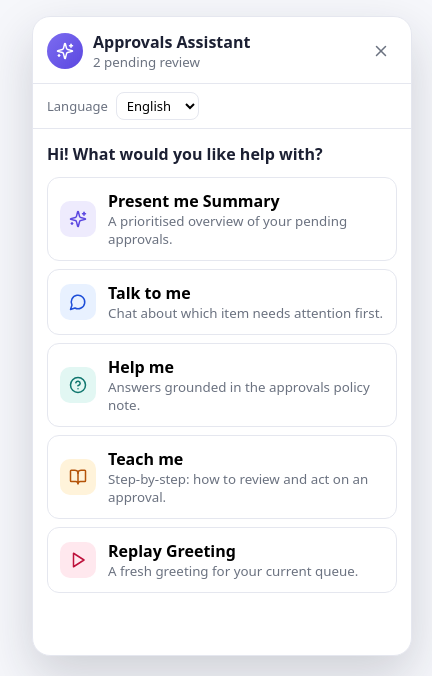
Test case: conversation actions › Talk to me: waits for the operator, then sends the history to /talk
Click the button "Talk to me Chat about which item needs attention first." at (222, 302), box [47,269,397,335]
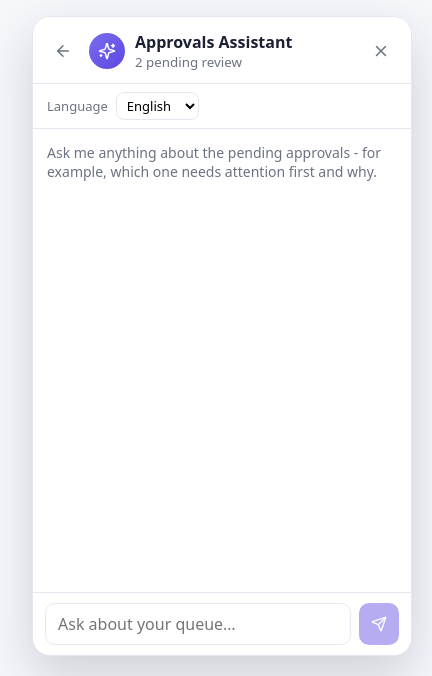
Type "Which first?" into the field labelled "Ask about your queue…" at (198, 624), box [45,603,351,645]
Then press Enter
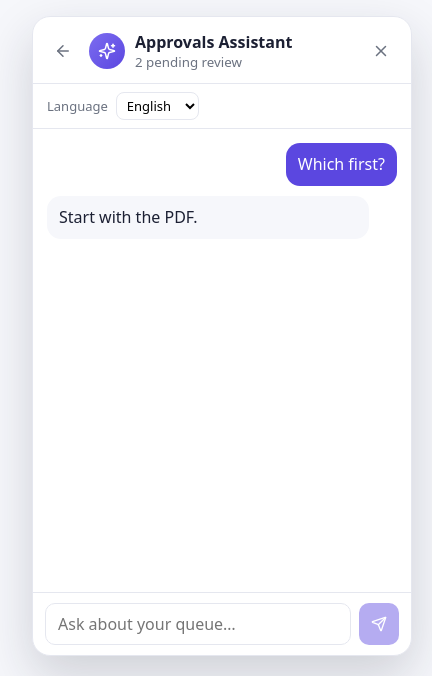
Result: the text "Start with the PDF." is shown at [47,196,369,239]
Result: the text "Which first?" is shown at [286,143,397,186]
